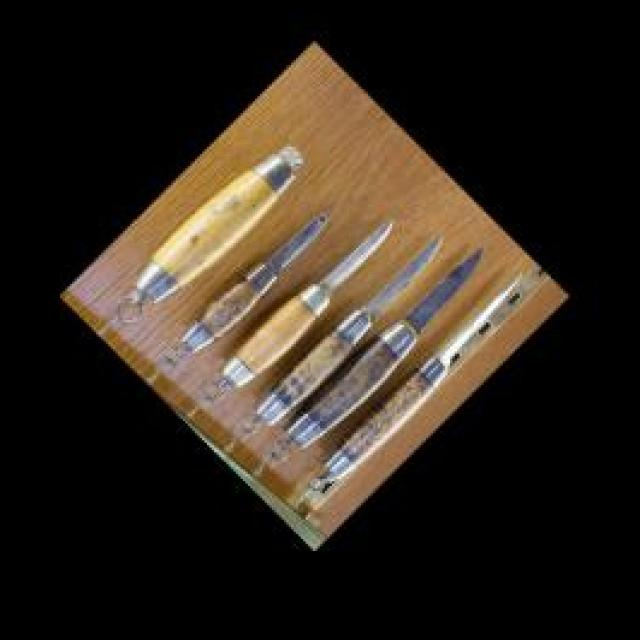knife: (267, 246, 493, 463), (232, 234, 445, 446), (198, 219, 402, 405), (160, 202, 337, 367)
